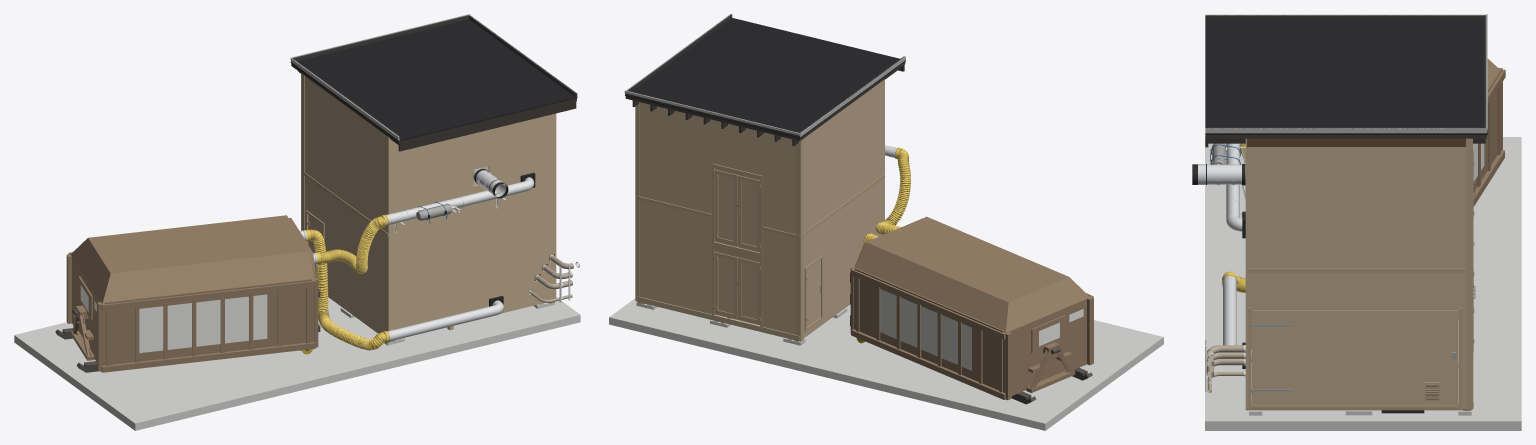
Rendered from collector.glb.
The picture shows the model from 3 angles, left to right: view 1: azimuth 30°, elevation 25°; view 2: azimuth 150°, elevation 25°; view 3: azimuth 270°, elevation 25°; orthographic projection. The views are drawn at different scales.
Parts seen in each view (by area): view 1: DC_Compactor, Enc__back, Enc__roof, Pad__slab, Enc__west, DC_ConveyHoses, DC_ConveyPipe, DC_ConveyLow, Enc__north, DC_GapConduits; view 2: DC_Compactor, Enc__north, Enc__roof, Pad__slab, Enc__west, DC_Enclosure_DoorUpper_E, DC_Enclosure_DoorUpper_W, DC_Enclosure_DoorLower_E, DC_Enclosure_DoorLower_W, DC_ConveyHoses, DC_Enclosure_DoorWest; view 3: Enc__roof, Enc__east, Pad__slab, DC_Enclosure_DoorSide, Enc__north, DC_Compactor, Frame__top, Enc__back, DC_GapConduits, DC_ConveyPipe, DC_ConveyLow, DC_InletDuct (+3 smaller).
Part boxes in pixels (x1,y1,x2,y2): DC_Compactor: (55, 215, 320, 372); Enc__back: (384, 113, 556, 345); Enc__roof: (290, 14, 577, 151); Pad__slab: (14, 290, 580, 430); Enc__west: (302, 78, 394, 342); DC_ConveyHoses: (302, 213, 397, 350); DC_ConveyPipe: (388, 172, 535, 232); DC_ConveyLow: (390, 296, 503, 340); Enc__north: (301, 73, 308, 244); DC_GapConduits: (529, 254, 579, 302); DC_Compactor: (850, 216, 1093, 404); Enc__north: (635, 102, 806, 345); Enc__roof: (624, 14, 905, 146); Pad__slab: (609, 298, 1163, 430); Enc__west: (794, 79, 884, 341); DC_Enclosure_DoorUpper_E: (713, 168, 739, 246); DC_Enclosure_DoorUpper_W: (737, 174, 760, 252); DC_Enclosure_DoorLower_E: (713, 250, 739, 319); DC_Enclosure_DoorLower_W: (737, 256, 760, 325); DC_ConveyHoses: (863, 146, 910, 245); DC_Enclosure_DoorWest: (806, 259, 820, 326); Enc__roof: (1205, 14, 1487, 147); Enc__east: (1245, 147, 1472, 415); Pad__slab: (1205, 137, 1521, 430); DC_Enclosure_DoorSide: (1251, 310, 1458, 404); Enc__north: (1458, 138, 1473, 415); DC_Compactor: (1473, 58, 1505, 206); Frame__top: (1247, 138, 1465, 146); Enc__back: (1245, 138, 1262, 415); DC_GapConduits: (1205, 339, 1245, 393); DC_ConveyPipe: (1223, 143, 1245, 238); DC_ConveyLow: (1223, 278, 1251, 368); DC_InletDuct: (1206, 164, 1245, 185).
Size of what is drawn, in the model's own units: 10.1 by 4.98 by 4.94.
